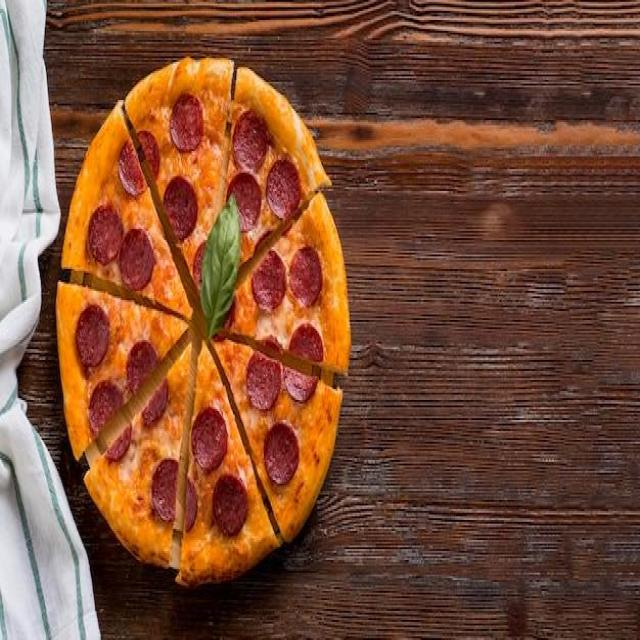basil: (200, 195, 242, 337)
pepperoni: (164, 175, 198, 244), (192, 407, 226, 475), (88, 203, 124, 264), (266, 157, 302, 216), (119, 227, 152, 291), (265, 422, 298, 486), (213, 476, 248, 536), (251, 250, 286, 310), (234, 110, 267, 172), (247, 353, 280, 412), (170, 94, 202, 154), (76, 305, 108, 365), (227, 174, 260, 231), (289, 247, 322, 302), (88, 382, 124, 430), (152, 459, 176, 522), (140, 380, 170, 428), (118, 141, 143, 198), (126, 342, 154, 389), (290, 324, 322, 363), (136, 132, 160, 181), (284, 368, 317, 402), (106, 428, 132, 461), (184, 475, 197, 536), (258, 334, 282, 355), (194, 241, 205, 280)
pizza: (56, 98, 195, 352), (212, 339, 342, 544), (125, 59, 234, 296), (176, 341, 279, 586), (54, 278, 189, 460), (215, 194, 350, 376), (84, 343, 191, 566), (228, 70, 331, 264)
